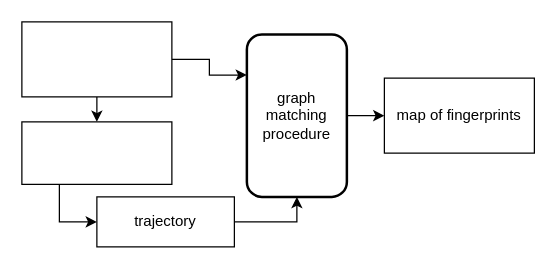
Image size: 556x279. Some labels were removed from this diagram. Each missing label, with the centre of its shape:
ground source location graph: point 96,59
labeled data: start point location: point 96,152
